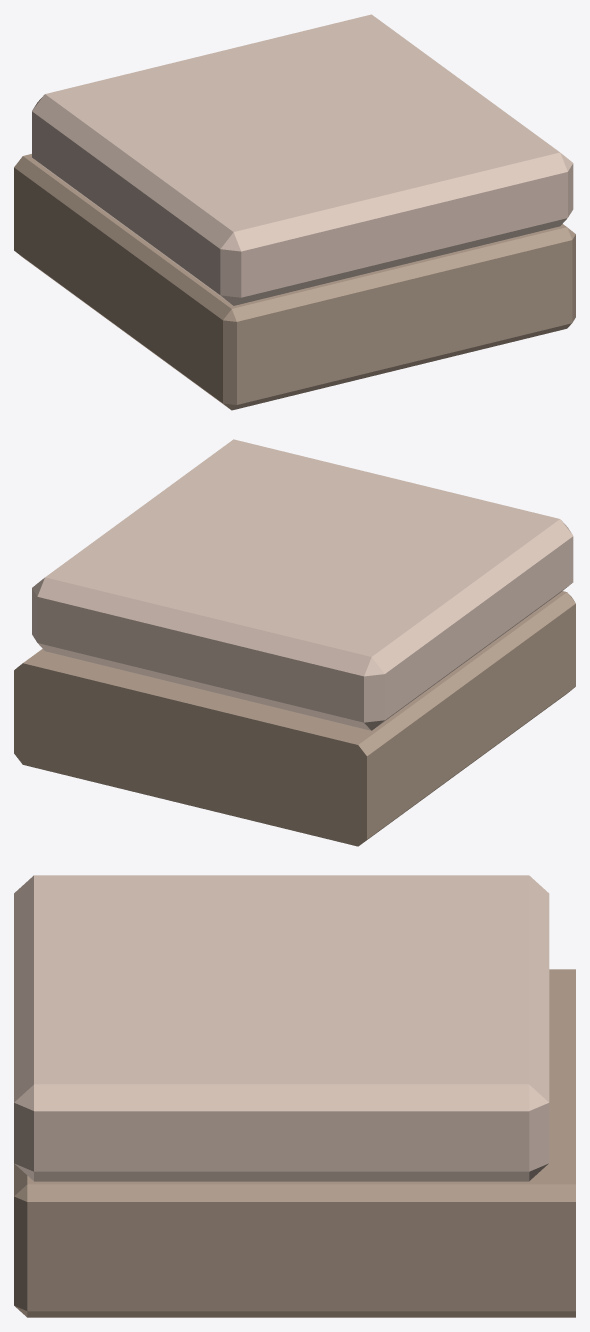
Rendered from Prop_Living_Room_Modular_Couch_Leg_Rest.obj.
3 views of the same model, one above another, from view 1: azimuth 30°, elevation 25°; view 2: azimuth 150°, elevation 25°; view 3: azimuth 270°, elevation 25° (orthographic). The views are drawn at different scales.
Parts seen in each view (by area): view 1: object2, object1; view 2: object2, object1; view 3: object2, object1.
Boxes of the visible parts, left/top/right/bottom form: object2: left=32, top=14, right=573, bottom=305; object1: left=14, top=154, right=575, bottom=410; object2: left=32, top=439, right=573, bottom=730; object1: left=14, top=591, right=575, bottom=846; object2: left=14, top=875, right=549, bottom=1181; object1: left=14, top=969, right=575, bottom=1317.
Size of the model in its own units: 1 by 0.475 by 1.05.
